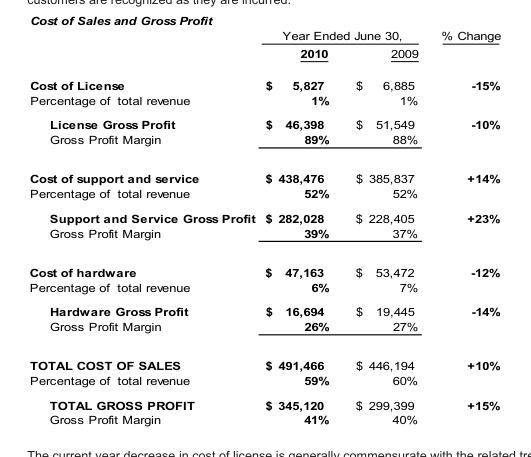table: (28, 28, 500, 425)
table column: (28, 28, 259, 425), (341, 28, 429, 425), (259, 28, 341, 425), (429, 28, 500, 425)
table column header: (28, 28, 500, 68)
table row: (28, 131, 500, 158), (28, 158, 500, 185), (28, 225, 500, 252), (28, 252, 500, 279), (28, 318, 500, 345), (28, 345, 500, 372), (28, 44, 500, 68), (28, 68, 500, 92), (28, 92, 500, 112), (28, 185, 500, 205), (28, 205, 500, 225), (28, 279, 500, 299), (28, 372, 500, 392), (28, 392, 500, 412), (28, 112, 500, 131), (28, 299, 500, 318), (28, 28, 500, 44), (28, 412, 500, 425)
table spanning cell: (429, 28, 500, 68), (259, 28, 429, 44)
